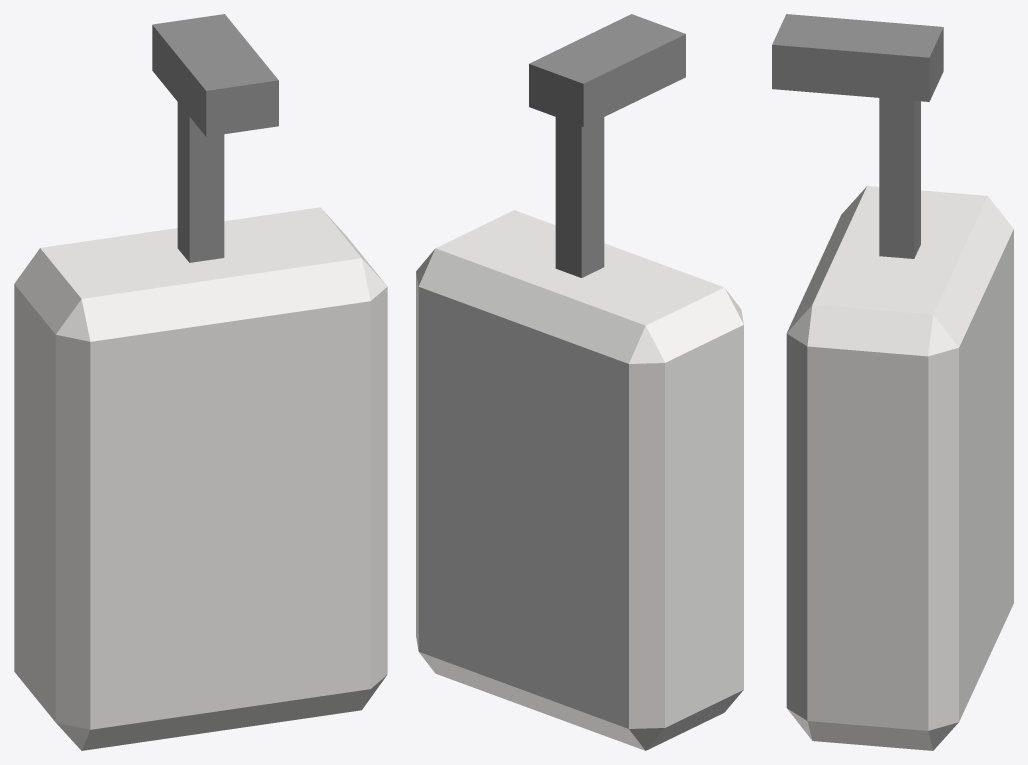
Rendered from Soap_3.fbx.
3 renders of one model, left to right at view 1: azimuth 30°, elevation 25°; view 2: azimuth 150°, elevation 25°; view 3: azimuth 270°, elevation 25°, orthographic. The views are drawn at different scales.
Visible parts, largest first — view 1: Soap_3; view 2: Soap_3; view 3: Soap_3.
Part boxes in pixels (bbox=[...]): Soap_3: bbox=[14, 14, 387, 750]; Soap_3: bbox=[416, 14, 743, 750]; Soap_3: bbox=[772, 14, 1013, 750].
Size of the model in its own units: 12.06 by 8.19 by 24.2.
